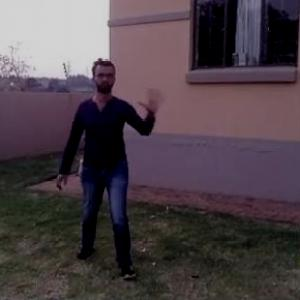follow_hand: (138, 85, 168, 116)
